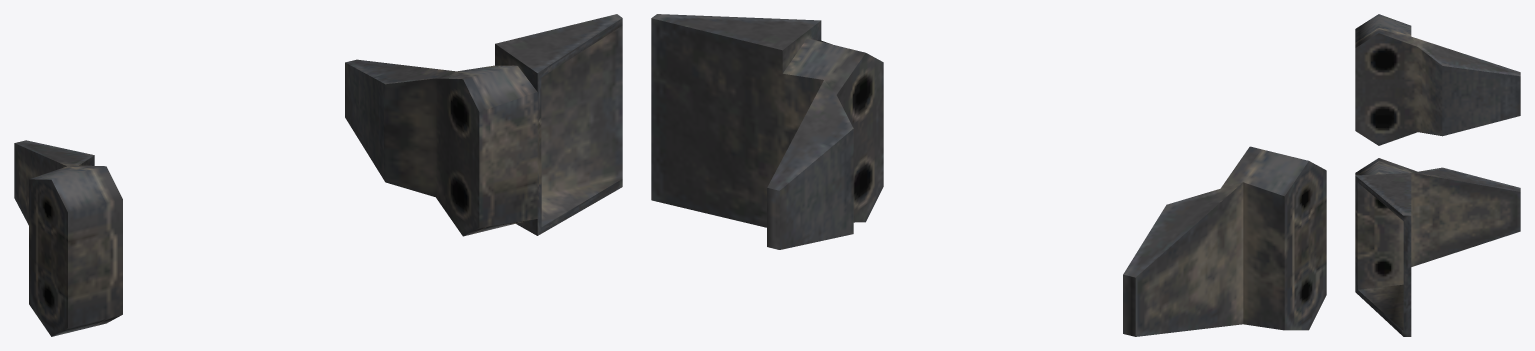
3 views of the same model, side by side, from view 1: azimuth 30°, elevation 25°; view 2: azimuth 150°, elevation 25°; view 3: azimuth 270°, elevation 25° (orthographic). The views are drawn at different scales.
Parts seen in each view (by area): view 1: set_0_group_0; view 2: set_0_group_0; view 3: set_0_group_0.
Boxes of the visible parts, x1,y1,x2,y2 form: set_0_group_0: (14,14,622,336); set_0_group_0: (651,14,1326,336); set_0_group_0: (1355,14,1520,336).
Size of the model in its own units: 0.5166 by 0.1419 by 0.1757.
1 material, 1 textured.
